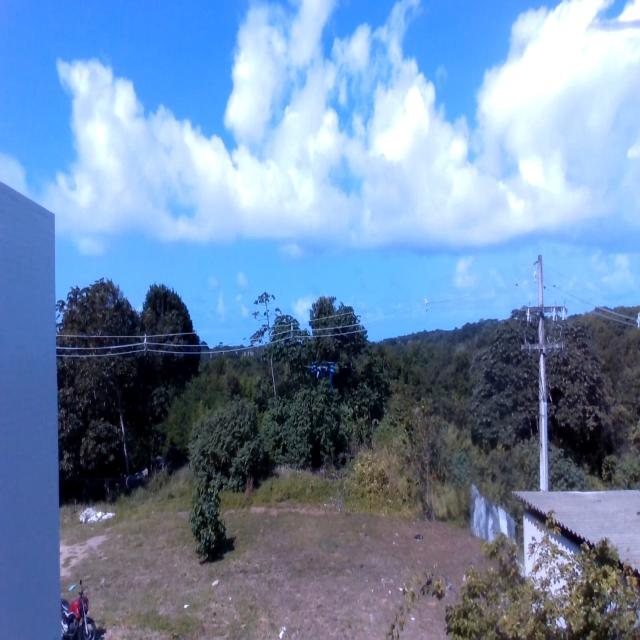-uav-: (304, 351, 339, 399)
